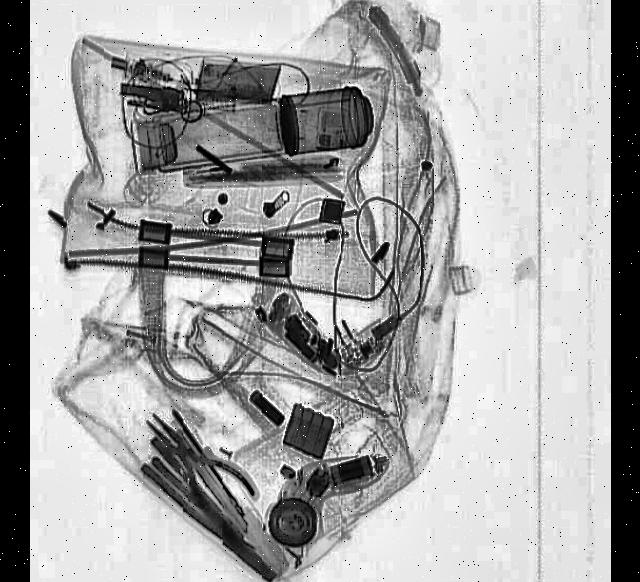Pliers: (135, 393, 259, 532)
